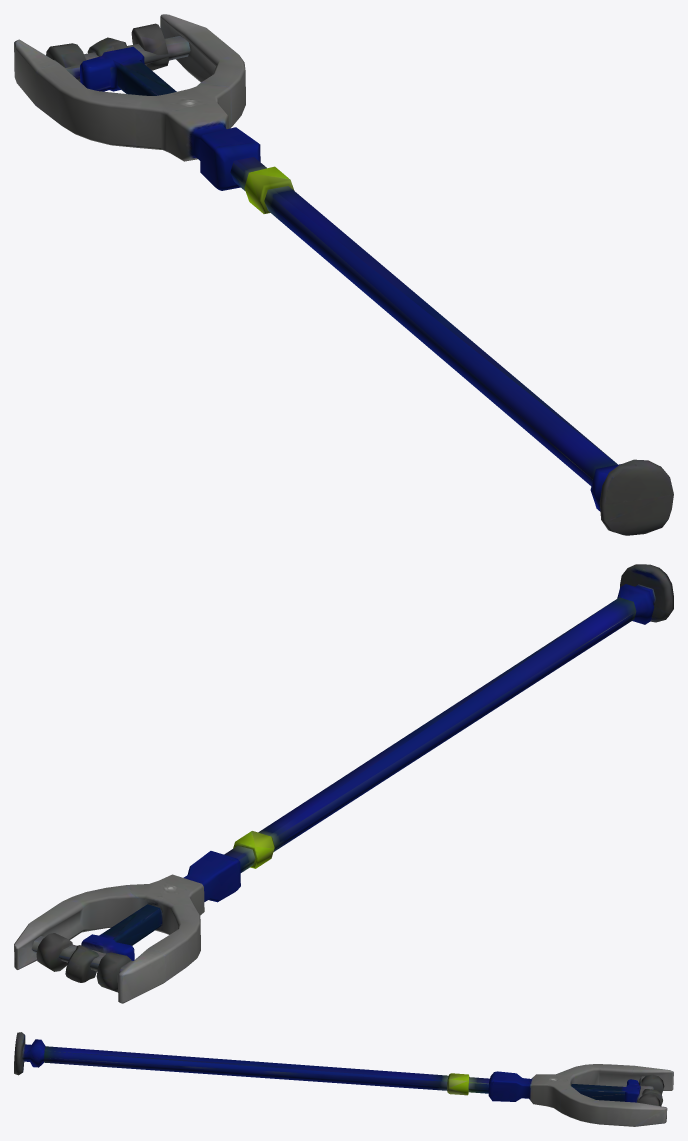
The model's file is m_spear.fbx.
3 views of the same model, one above another, from view 1: azimuth 30°, elevation 25°; view 2: azimuth 150°, elevation 25°; view 3: azimuth 270°, elevation 25° (orthographic). The views are drawn at different scales.
Visible parts, largest first — view 1: tripo_node_7da02371-e5bc-4624-83f3-6651042ab6c5; view 2: tripo_node_7da02371-e5bc-4624-83f3-6651042ab6c5; view 3: tripo_node_7da02371-e5bc-4624-83f3-6651042ab6c5.
Boxes of the visible parts, x1,y1,x2,y2 form: tripo_node_7da02371-e5bc-4624-83f3-6651042ab6c5: [14, 14, 673, 535]; tripo_node_7da02371-e5bc-4624-83f3-6651042ab6c5: [14, 564, 673, 1003]; tripo_node_7da02371-e5bc-4624-83f3-6651042ab6c5: [14, 1032, 673, 1126].
Size of the model in its own units: 0.4349 by 0.1937 by 2.27.
Materials: 1 (1 with a texture image).
